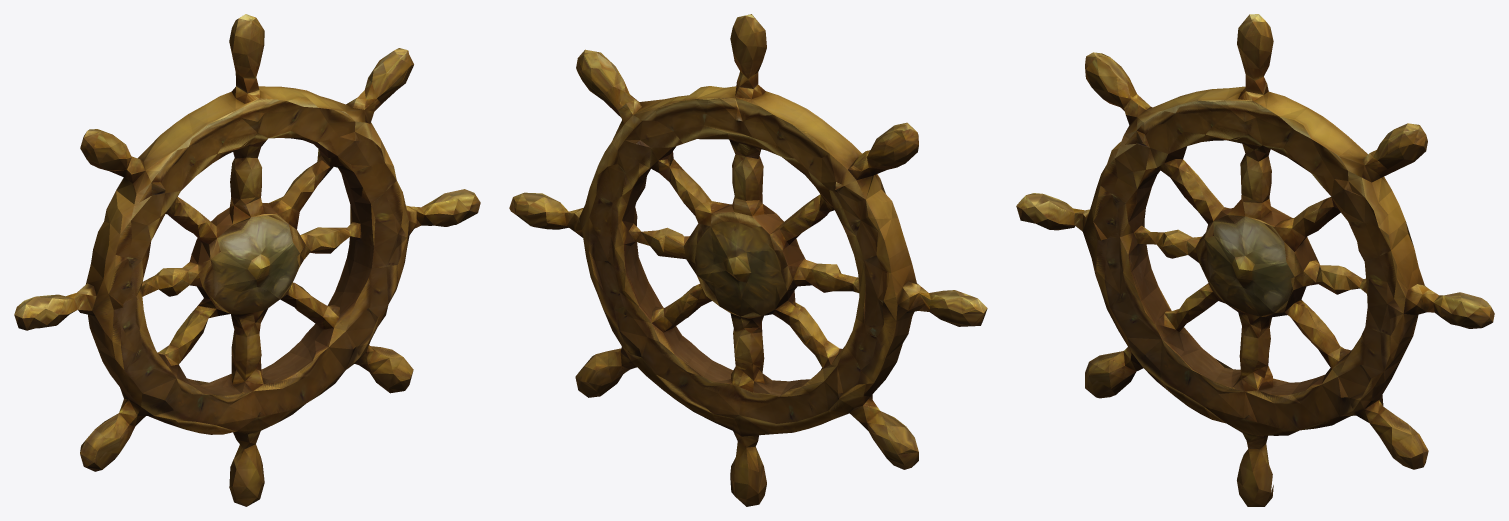
The model's file is wheel-traditional.glb.
The picture shows the model from 3 angles, left to right: view 1: azimuth 30°, elevation 25°; view 2: azimuth 150°, elevation 25°; view 3: azimuth 330°, elevation 25°; orthographic projection.
Parts seen in each view (by area): view 1: geometry_0.010; view 2: geometry_0.010; view 3: geometry_0.010.
Boxes of the visible parts, x1,y1,x2,y2 form: geometry_0.010: [14, 14, 480, 506]; geometry_0.010: [509, 14, 987, 506]; geometry_0.010: [1016, 14, 1494, 506].
Bounding box in the file's own units: 0.9898 × 0.9918 × 0.1098.
1 material, 1 textured.
